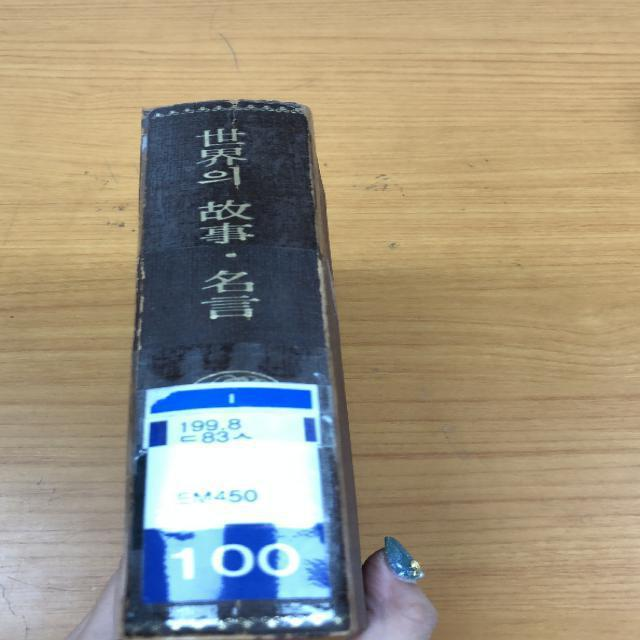Ripped: (287, 99, 320, 165), (138, 102, 157, 156), (224, 98, 242, 129)
Wornout: (315, 250, 333, 356), (132, 248, 149, 352), (260, 97, 281, 104)
